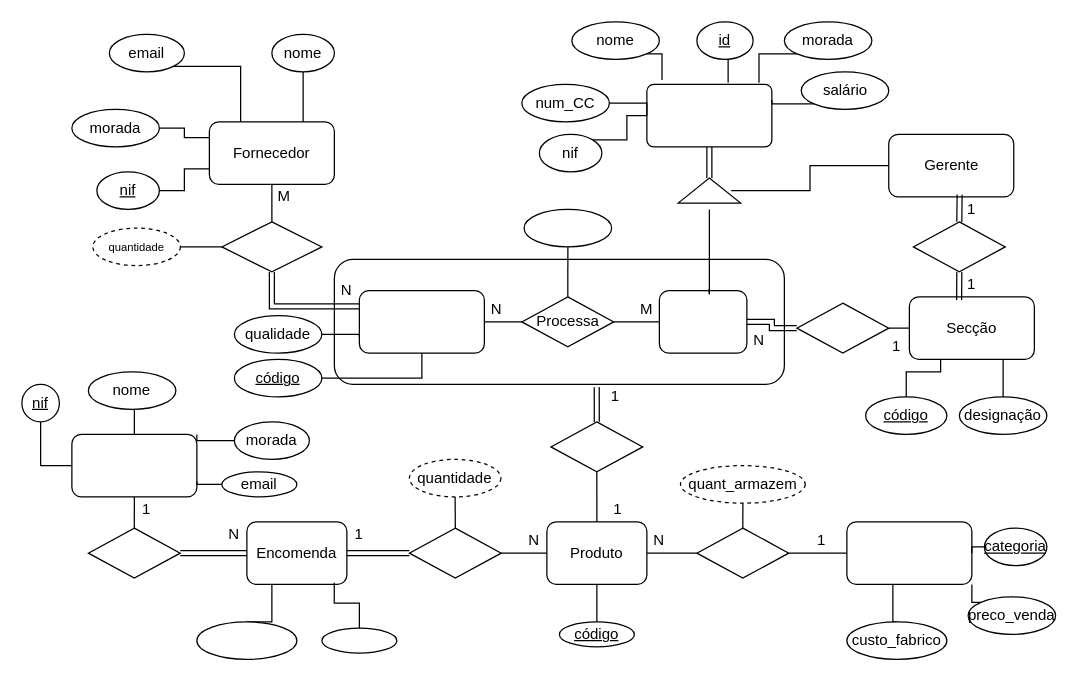
The diagram is 1078 pixels wide and 681 high, and some of its shapes have lost their labels. Here are the shapes that lost their labels. From the top down, the box of each, then its label:
(646, 83, 772, 147): Funcionário
(677, 177, 741, 203): is-a
(221, 221, 322, 272): Fornece
(523, 208, 612, 247): estado
(912, 221, 1005, 272): Coordena
(358, 289, 484, 353): Matéria Prima
(658, 289, 747, 353): Operário
(796, 302, 889, 353): Trabalha
(71, 433, 197, 497): Revendedor
(550, 421, 643, 472): Origina
(87, 527, 180, 578): Adquire
(408, 527, 501, 578): Contém
(696, 527, 789, 578): Caracteriza
(846, 521, 972, 584): Tipo_Produto
(196, 621, 297, 659): num_encomenda
(321, 627, 397, 653): data
